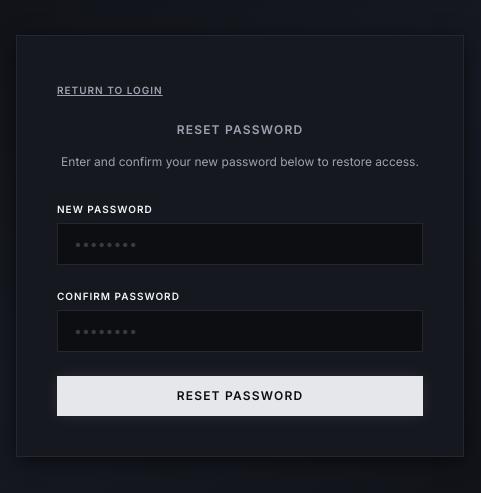
Test: ChangePassword Page › should show error if passwords do not match
Step 1. Type "newpass123" into the password field with placeholder "••••••••" → [240, 244], box [57,223,423,265]
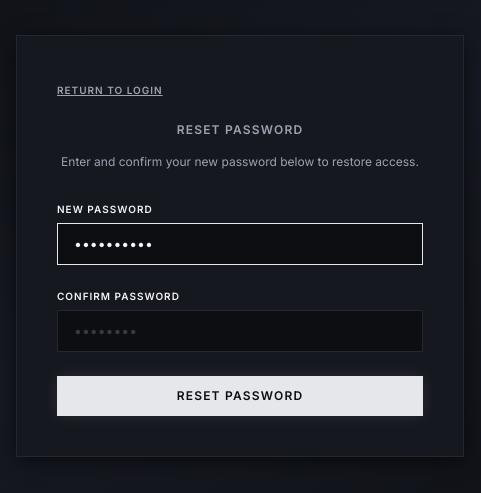
Step 2. Type "differentpass" into the password field with placeholder "••••••••" → [240, 331], box [57,310,423,352]
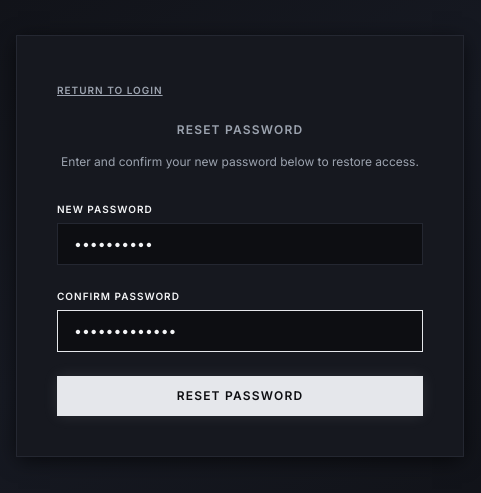
Step 3. Click the button "Reset Password" → [240, 396], box [57,376,423,416]
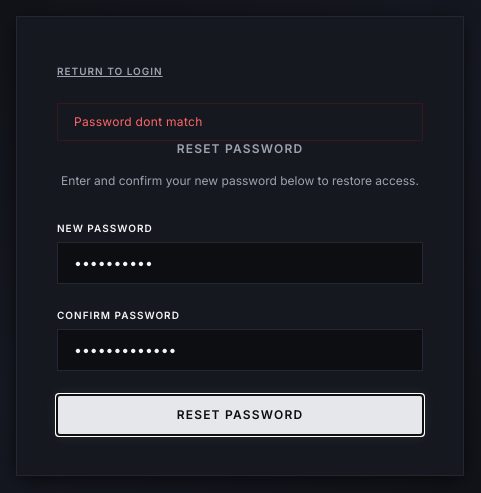
Check: the text "Password dont match" is shown, box [57,103,423,141]
